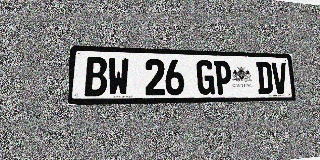2: (145, 58, 165, 96)
6: (165, 59, 184, 95)
B: (84, 57, 107, 96)
D: (256, 62, 273, 94)
G: (196, 60, 215, 95)
P: (214, 60, 232, 95)
V: (271, 62, 288, 94)
W: (108, 57, 129, 96)
